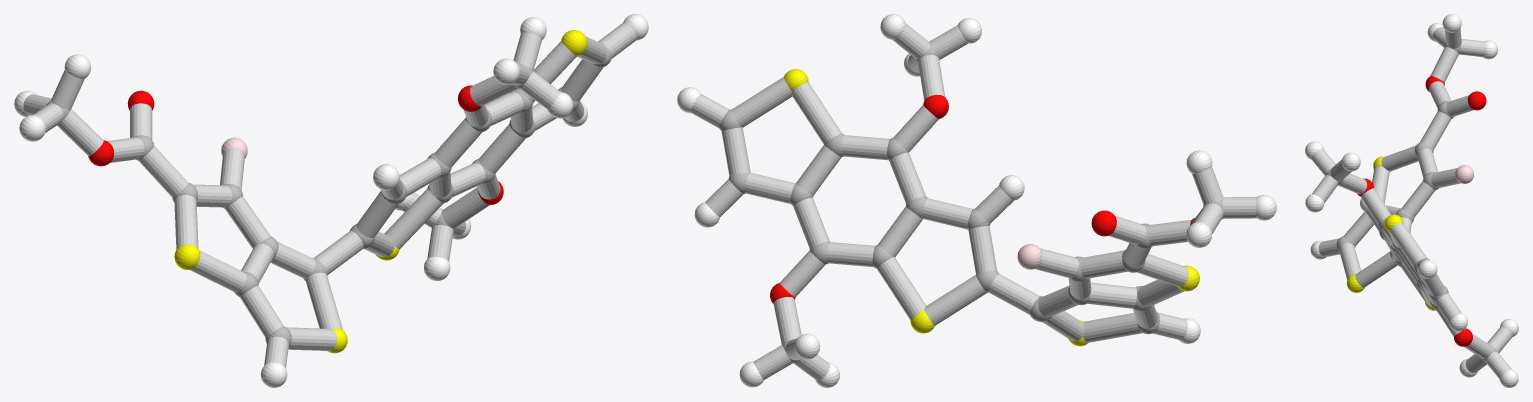
Rendered from color.glb.
3 views of the same model, side by side, from view 1: azimuth 30°, elevation 25°; view 2: azimuth 150°, elevation 25°; view 3: azimuth 270°, elevation 25° (orthographic). The views are drawn at different scales.
Parts seen in each view (by area): view 1: grp15205, grp8689, grp1, grp7241, grp13395; view 2: grp15205, grp8689, grp1, grp13395, grp7241, grp14843; view 3: grp15205, grp8689, grp1, grp13395, grp7241, grp14843.
Boxes of the visible parts, <box> form: grp15205: <box>23,22,637,368</box>; grp8689: <box>14,14,648,387</box>; grp1: <box>46,41,611,345</box>; grp7241: <box>174,30,587,353</box>; grp13395: <box>88,85,503,204</box>; grp15205: <box>691,23,1256,380</box>; grp8689: <box>677,14,1276,387</box>; grp1: <box>719,45,1222,363</box>; grp13395: <box>770,94,1195,303</box>; grp7241: <box>784,69,1199,346</box>; grp14843: <box>1017,244,1042,269</box>; grp15205: <box>1311,27,1512,378</box>; grp8689: <box>1305,14,1518,387</box>; grp1: <box>1326,41,1497,361</box>; grp13395: <box>1357,76,1486,346</box>; grp7241: <box>1347,156,1436,310</box>; grp14843: <box>1455,165,1473,183</box>.
Bounding box in the file's own units: 16.09 × 8.03 × 6.71.
